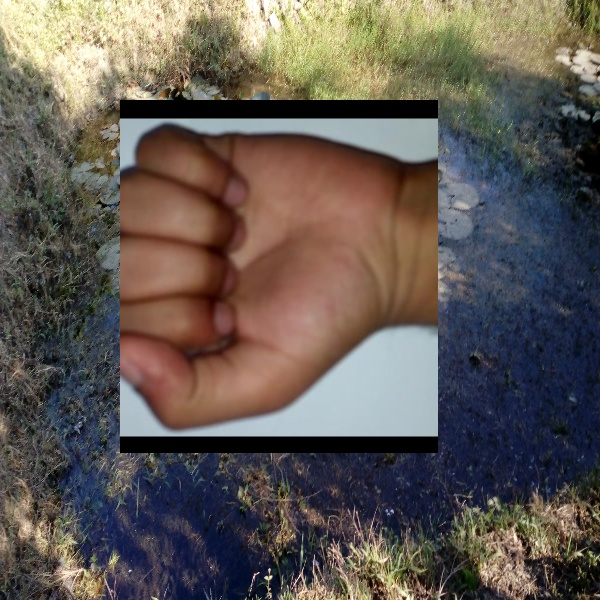A: (120, 100, 438, 453)
